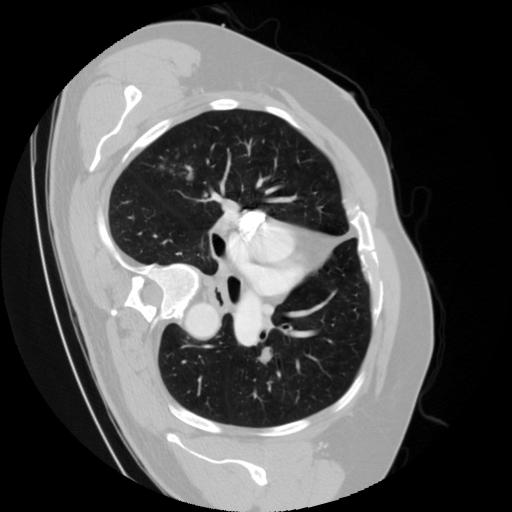nodule: (257, 344, 278, 365)
